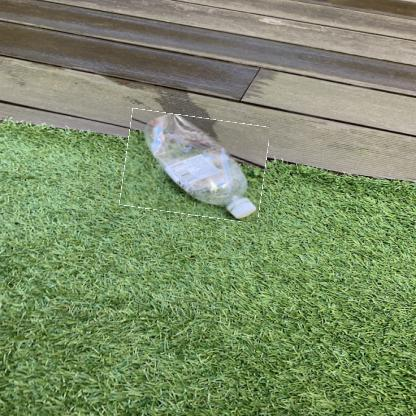plastic-bottles: (122, 113, 267, 218)
